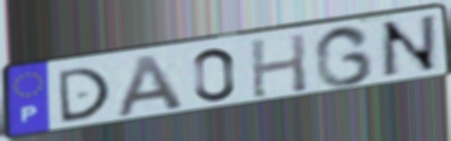0: (191, 47, 237, 103)
A: (114, 52, 189, 120)
D: (55, 65, 113, 126)
G: (312, 23, 376, 89)
H: (248, 31, 311, 101)
N: (377, 12, 442, 81)
